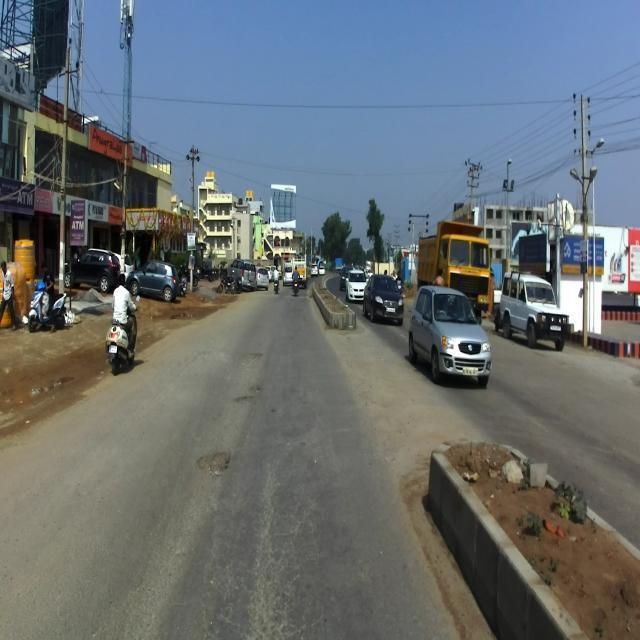Pothole: (195, 447, 234, 482)
